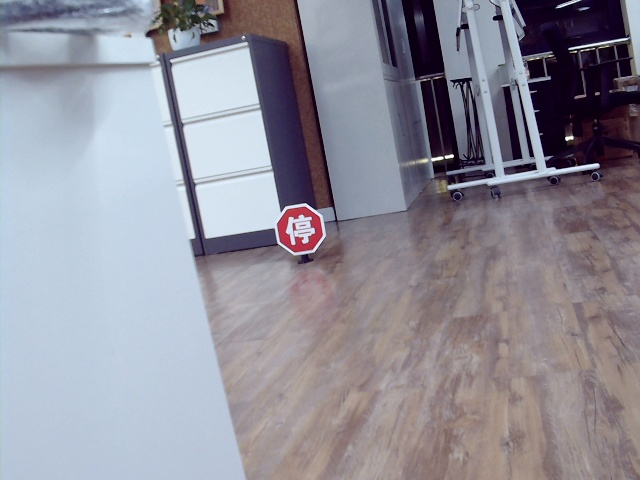stop: (283, 212, 315, 246)
